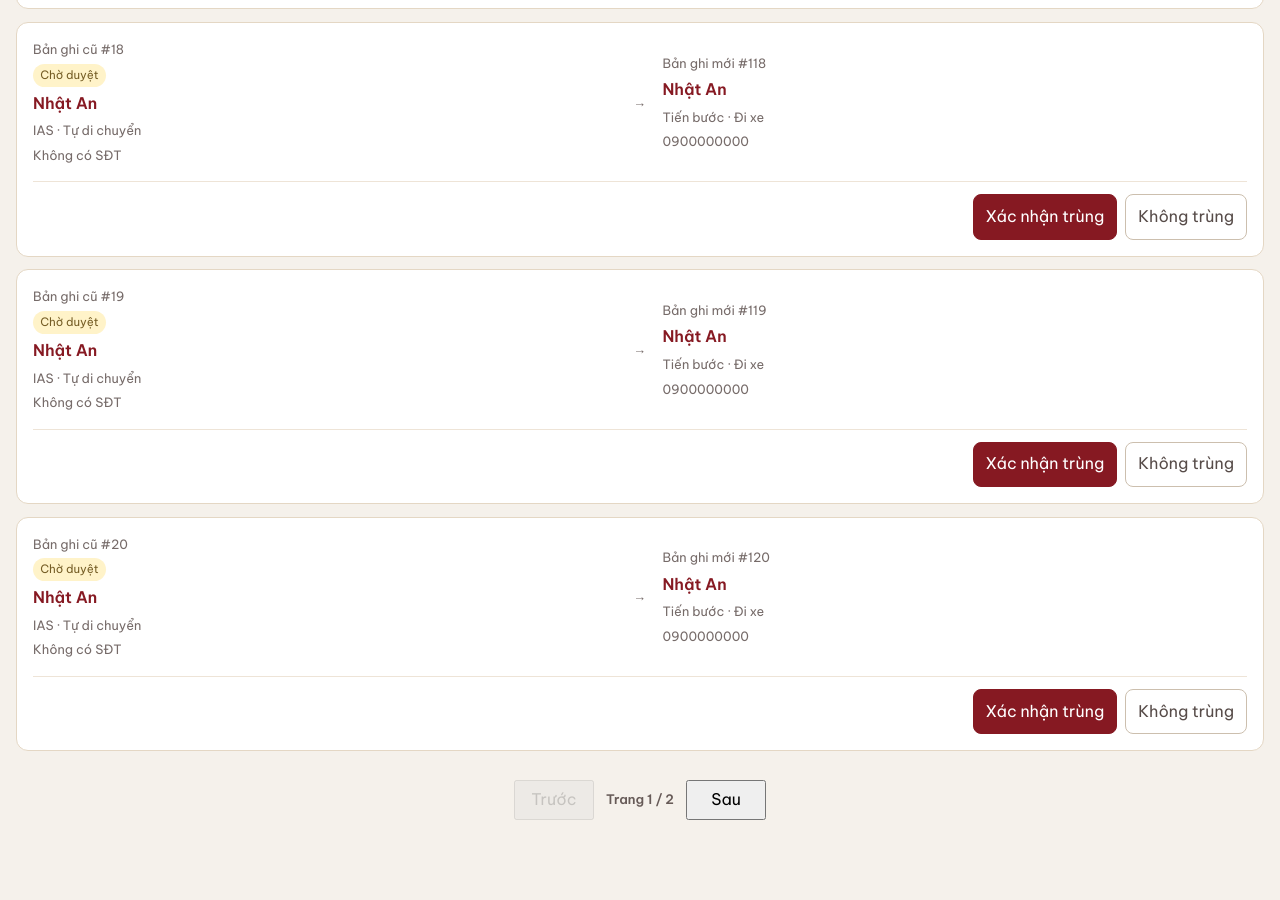
AdminComponent › paginates duplicate review cards at twenty rows per page
(page scrolled)
Click the button with aria-label "Trang sau" at [726, 800], box 686,780 -> 766,820
(page scrolled)
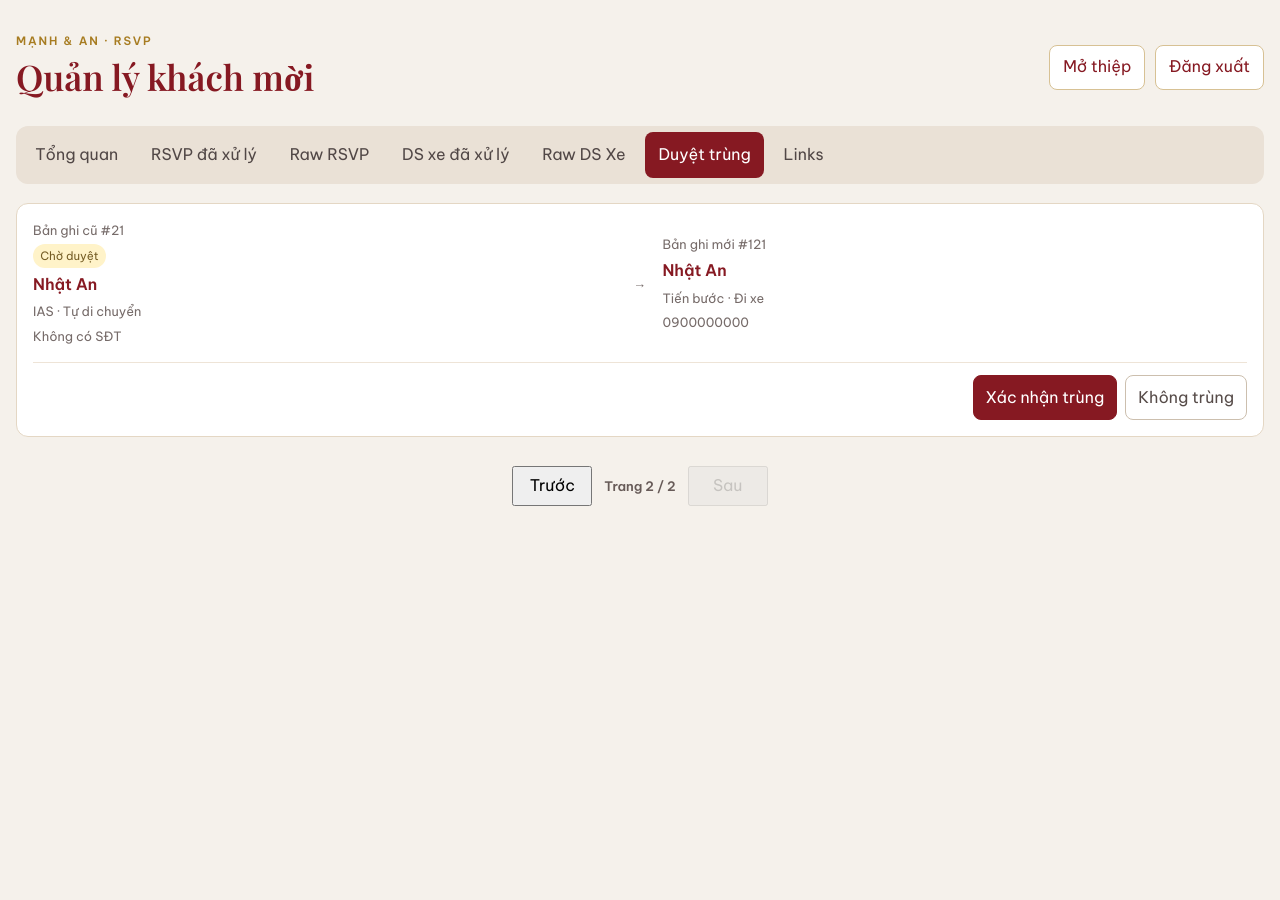
Expected: the number of elements with class "duplicate-card" is 1, 16,203 -> 1264,437
